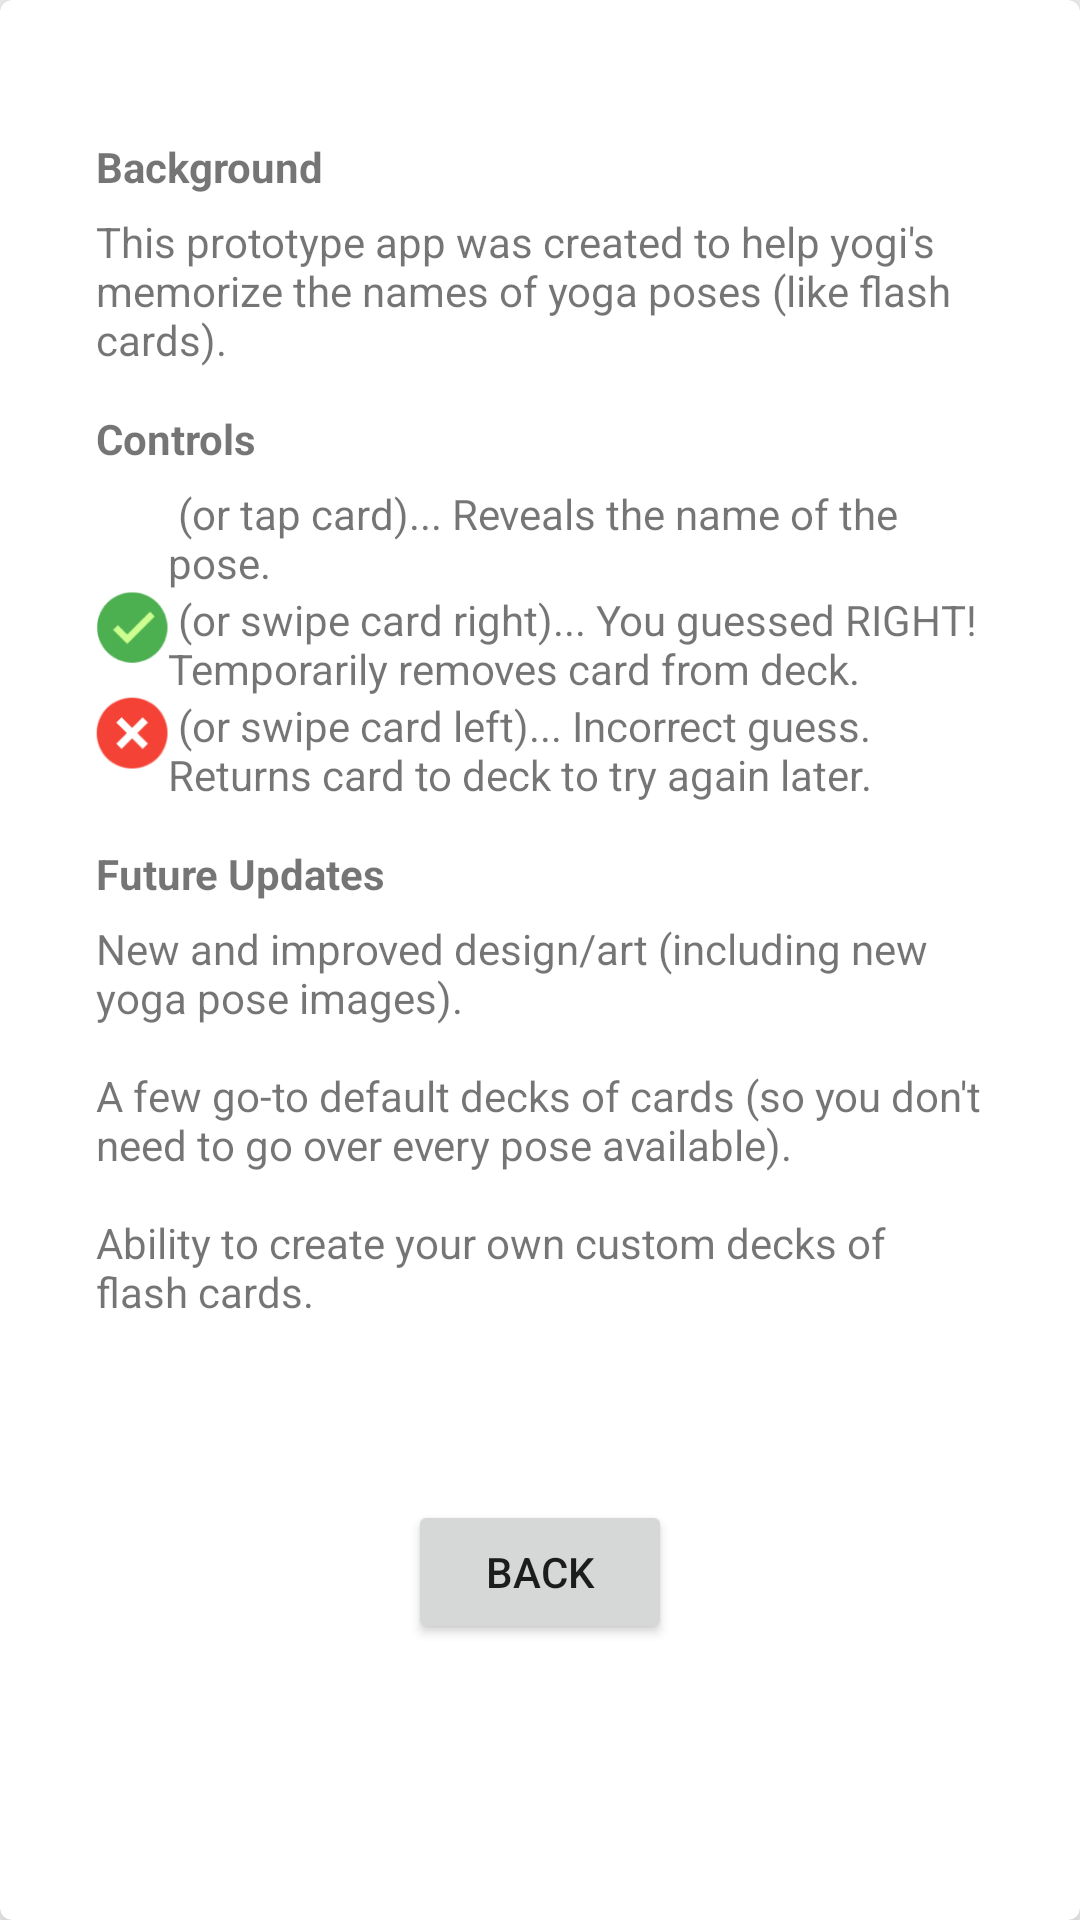

Screen size 1080w x 1920h. Icon name, then its center in pixels as (x,y):
cancel: (132,733)
